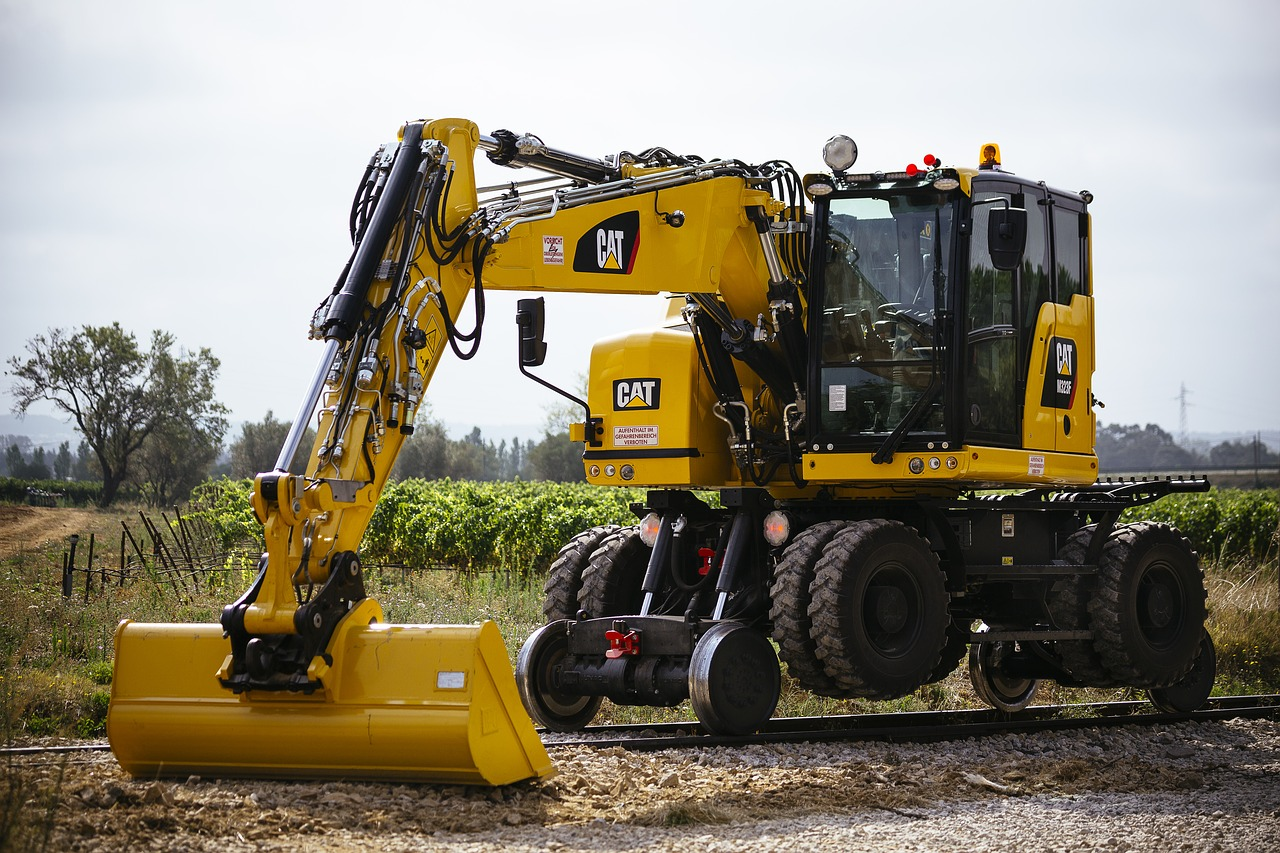excavator: (110, 103, 1218, 801)
